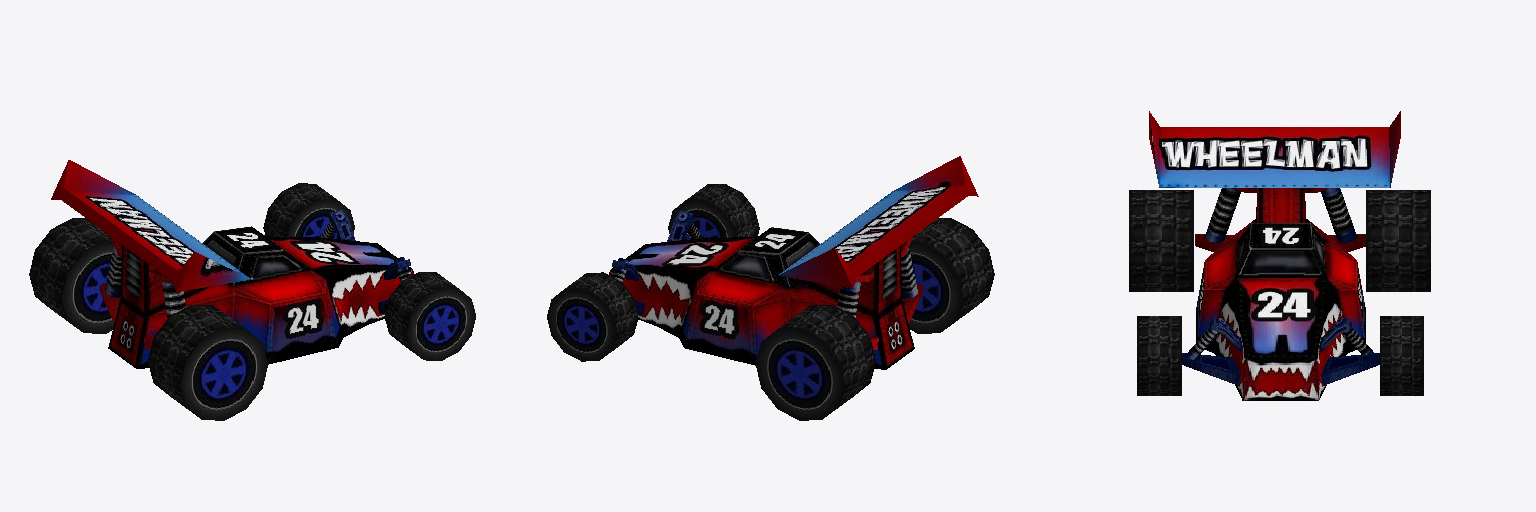
3 views of the same model, side by side, from view 1: azimuth 30°, elevation 25°; view 2: azimuth 150°, elevation 25°; view 3: azimuth 270°, elevation 25° (orthographic).
Visible parts, largest first — view 1: car1; view 2: car1; view 3: car1.
Boxes of the visible parts, <box> form: car1: <box>29,160,475,420</box>; car1: <box>547,156,994,420</box>; car1: <box>1129,111,1430,400</box>.
Bounding box in the file's own units: 198 × 104 × 171.
1 materials, 1 textured.